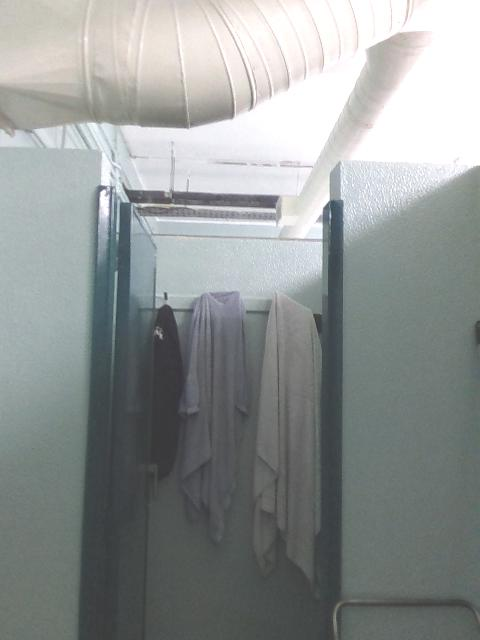open_door: (79, 202, 342, 592)
